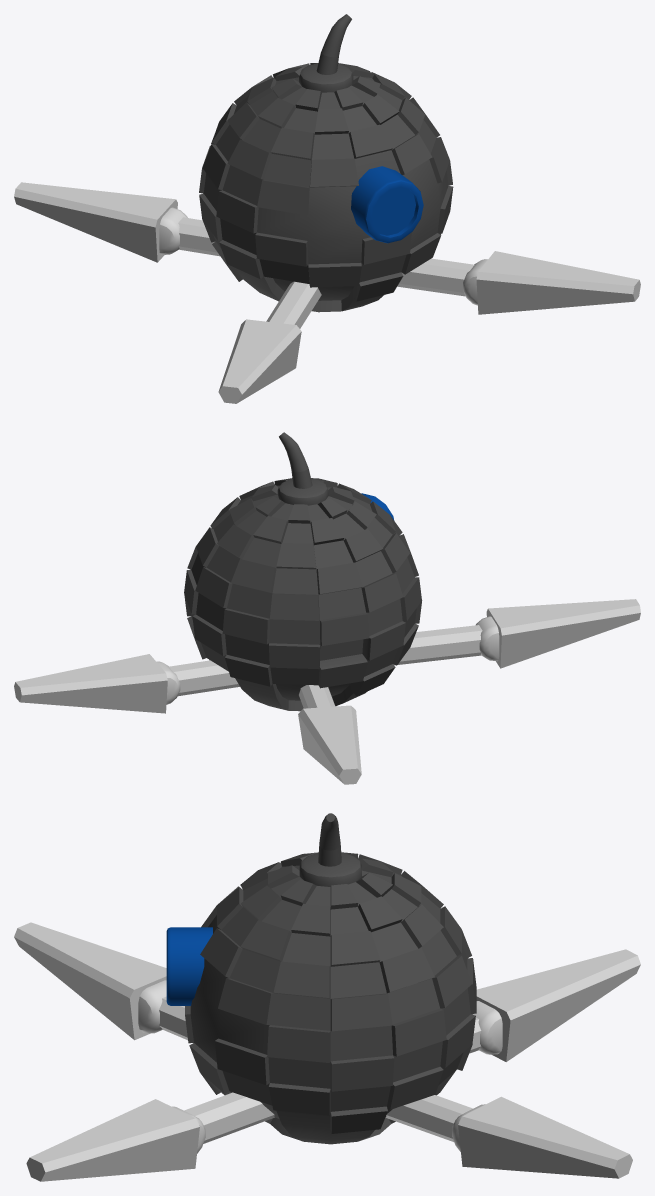
File: Bomba.fbx
3 views of the same model, one above another, from view 1: azimuth 30°, elevation 25°; view 2: azimuth 150°, elevation 25°; view 3: azimuth 270°, elevation 25° (orthographic). The views are drawn at different scales.
Parts seen in each view (by area): view 1: pSphere2, pCube2 (×3), pCube1 (×3), pCylinder9, pCylinder12, pCylinder13; view 2: pSphere2, pCube2 (×3), pCube1 (×3), pCylinder12, pCylinder13; view 3: pSphere2, pCube2 (×4), pCube1 (×3), pCylinder9, pCylinder13 (×2), pCylinder12.
Boxes of the visible parts, <box> form: pSphere2: <box>199,63,453,312</box>; pCube2 (×3): <box>14,182,640,403</box>; pCube1 (×3): <box>178,217,474,328</box>; pCylinder9: <box>351,166,423,243</box>; pCylinder12: <box>316,14,351,74</box>; pCylinder13: <box>159,207,187,254</box>; pSphere2: <box>184,478,422,711</box>; pCube2 (×3): <box>14,599,640,784</box>; pCube1 (×3): <box>169,625,482,708</box>; pCylinder12: <box>279,432,312,488</box>; pCylinder13: <box>476,616,499,661</box>; pSphere2: <box>185,852,476,1144</box>; pCube2 (×4): <box>14,922,640,1181</box>; pCube1 (×3): <box>159,996,472,1143</box>; pCylinder9: <box>166,927,212,1005</box>; pCylinder13 (×2): <box>138,980,502,1054</box>; pCylinder12: <box>318,813,341,866</box>.
Bounding box in the file's own units: 2.05 × 1.29 × 2.22.
